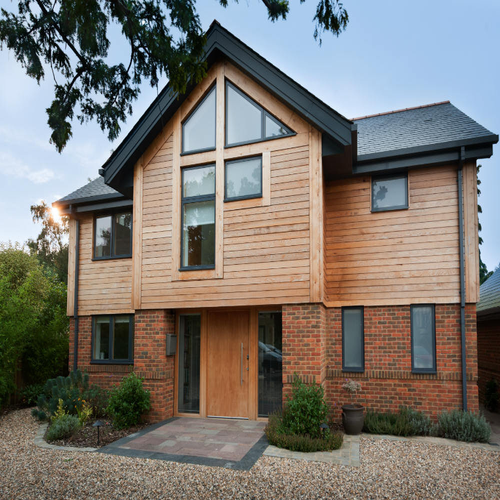Building House: (47, 20, 489, 430)
